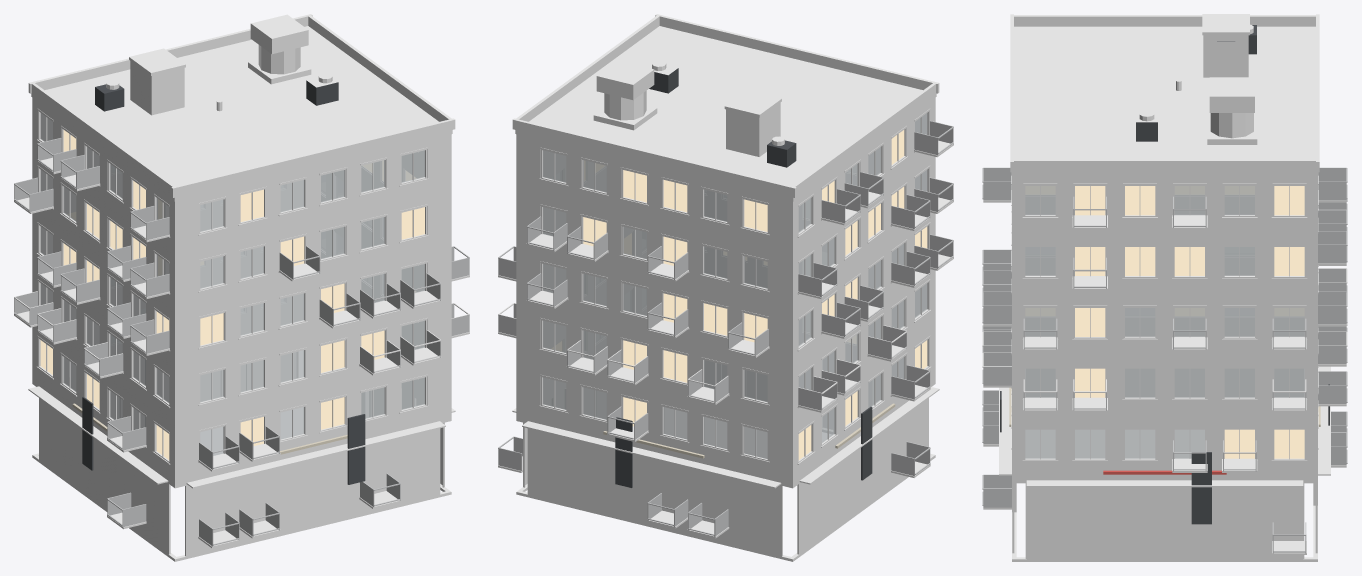
File: Mixmixed_use_urban_0000005.glb
3 views of the same model, side by side, from view 1: azimuth 30°, elevation 25°; view 2: azimuth 150°, elevation 25°; view 3: azimuth 270°, elevation 25° (orthographic). The views are drawn at different scales.
Parts seen in each view (by area): view 1: Mixmixed_use_urban_0000005; view 2: Mixmixed_use_urban_0000005; view 3: Mixmixed_use_urban_0000005.
Part boxes in pixels (<box>): Mixmixed_use_urban_0000005: <box>14,14,469,561</box>; Mixmixed_use_urban_0000005: <box>498,14,953,561</box>; Mixmixed_use_urban_0000005: <box>982,14,1347,561</box>.
Size of the model in its own units: 19.48 by 23.49 by 17.72.
